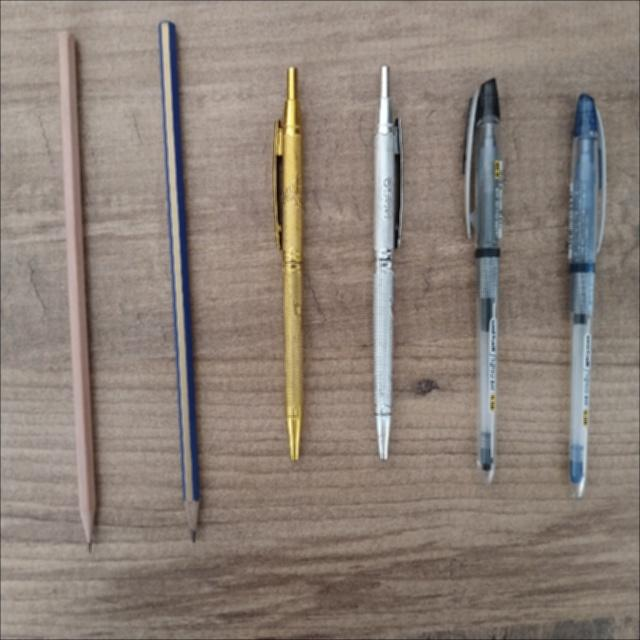pen: (464, 79, 502, 483), (568, 94, 605, 497)
pencil: (159, 21, 199, 540), (58, 32, 95, 550)
signature pen: (273, 67, 302, 460), (373, 66, 402, 459)
